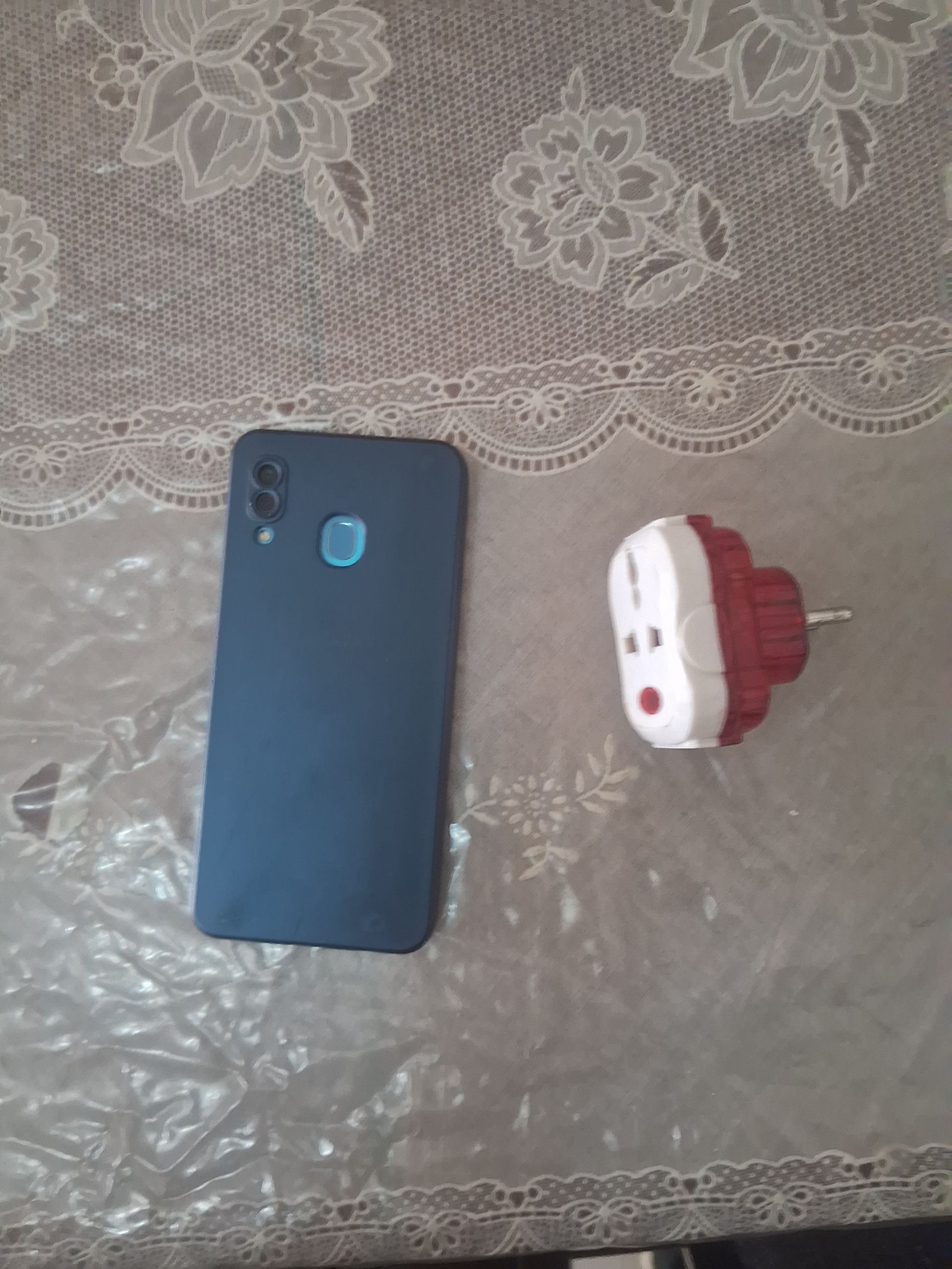Multi_adapter: (599, 502, 861, 758)
Smart_phone: (185, 418, 484, 966)
